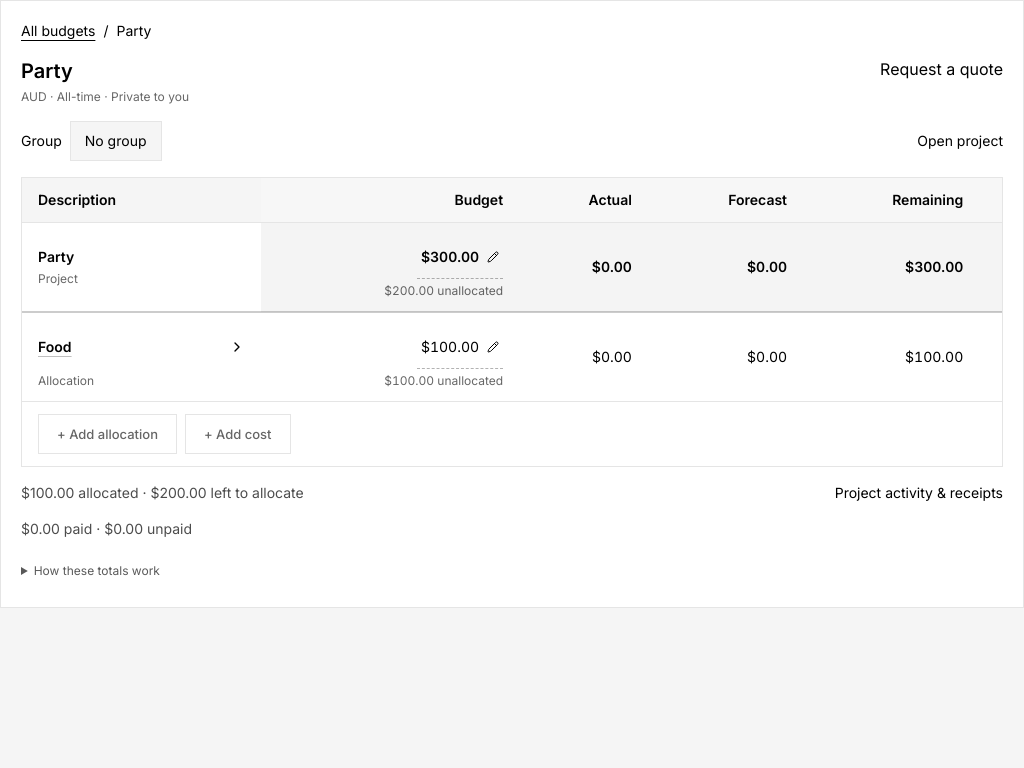
Test: shows parent budgets and breadcrumbs without adding another set of tables
Expected: the button named "Edit budget for Party" is shown, [417,235,503,279]
Click the button with aria-label "Open Food budget".
click(142, 347)  # box [38,325,245,369]
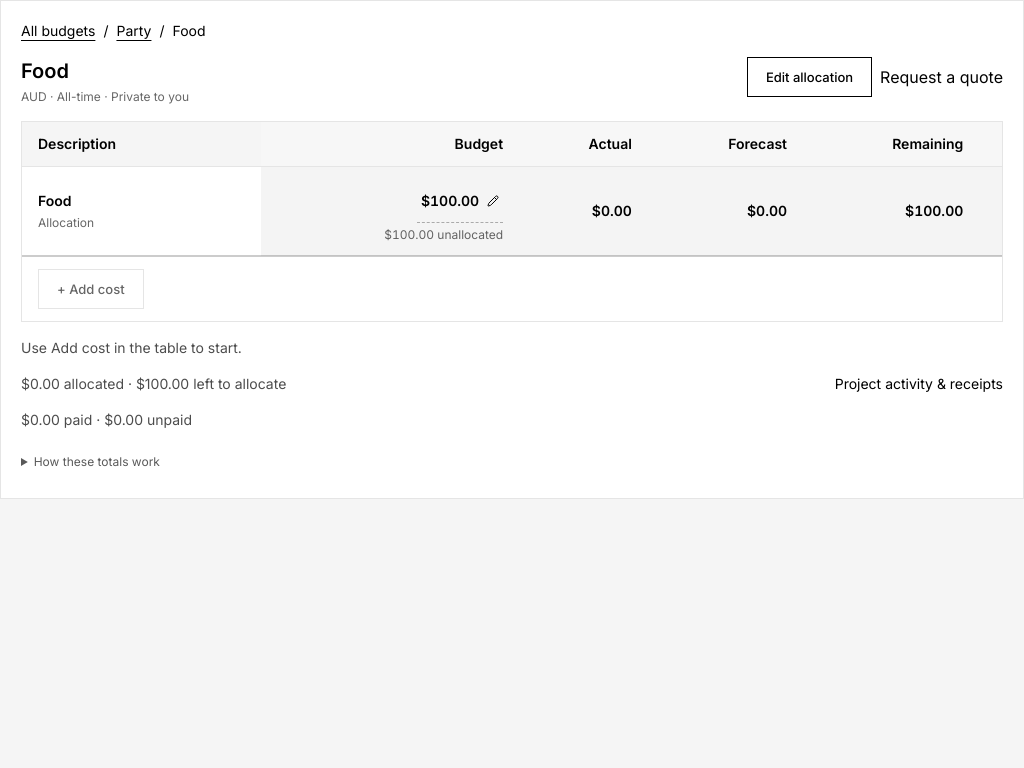
Expected: the navigation bar named "Budget location" reads "All budgets / Party / Food", [21,21,206,41]
